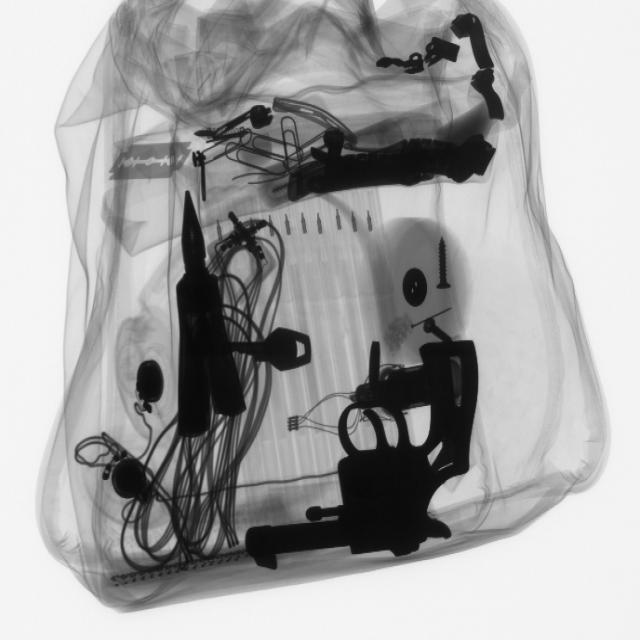BLADE: (102, 134, 208, 193)
GUN: (245, 333, 484, 571)
SCREW: (419, 227, 469, 298)
